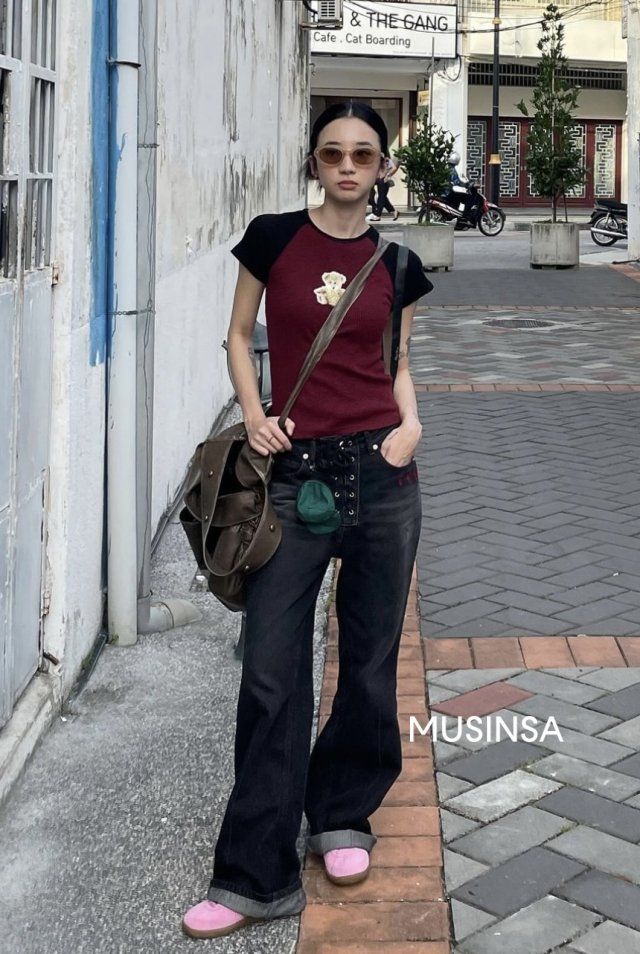Bag: (178, 414, 284, 610)
Glasses: (310, 142, 385, 168)
Jeans: (209, 433, 406, 909)
Shoes: (172, 834, 382, 932)
T-shirts: (231, 206, 434, 440)
